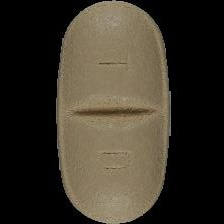0078-0456: (0, 0, 224, 224)
